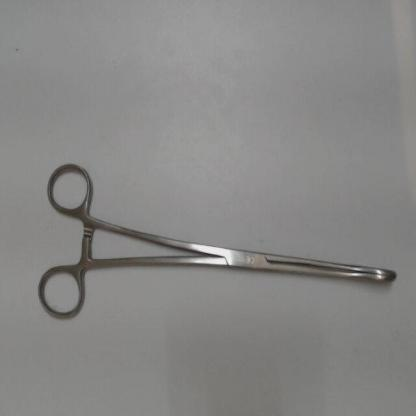Sponge Forceps: (33, 158, 408, 328)
